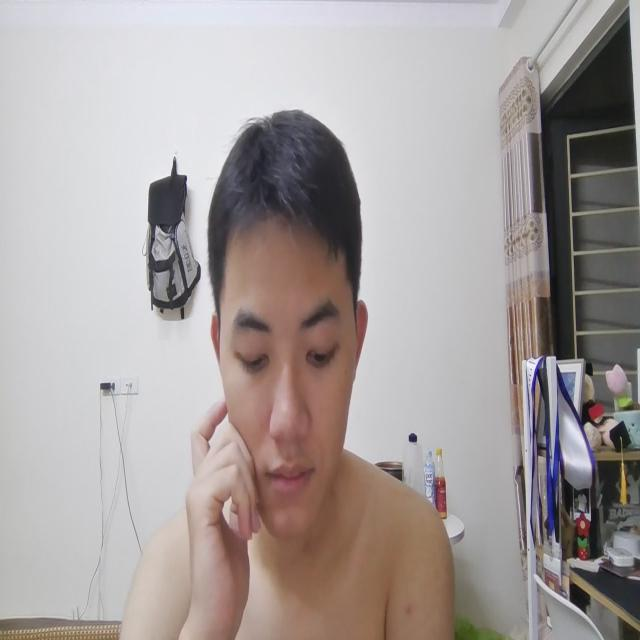student: (180, 87, 376, 613)
